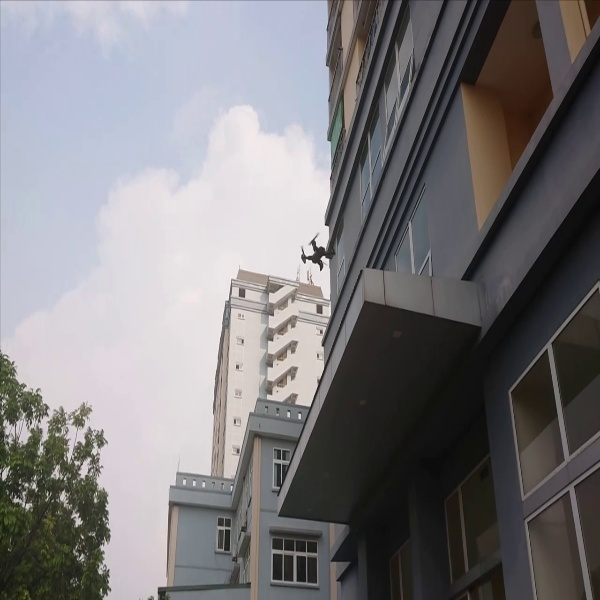drone: (290, 221, 341, 272)
